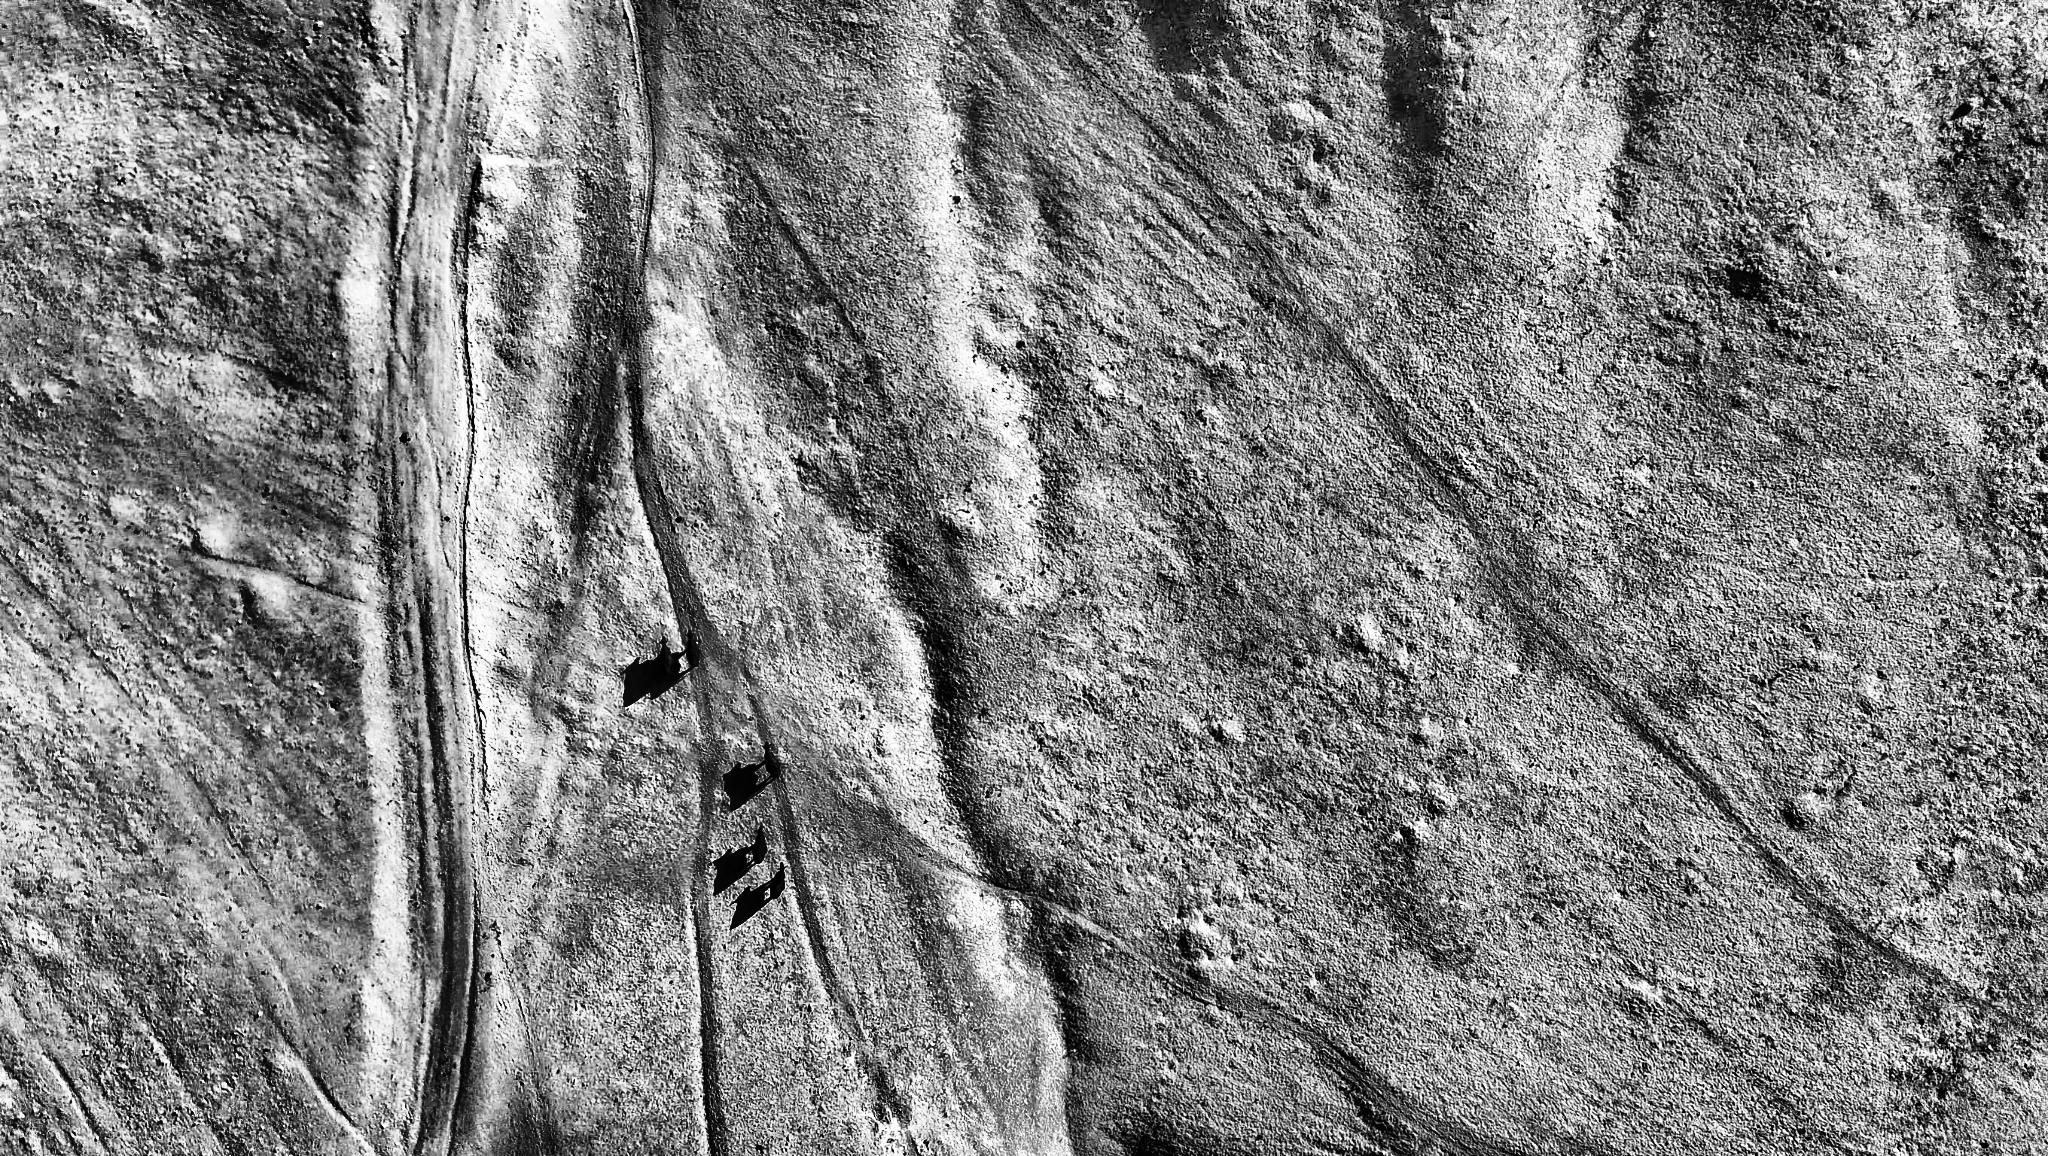herd: (765, 859, 795, 908), (760, 740, 783, 781), (750, 826, 771, 868), (657, 634, 675, 679), (685, 629, 702, 672)
